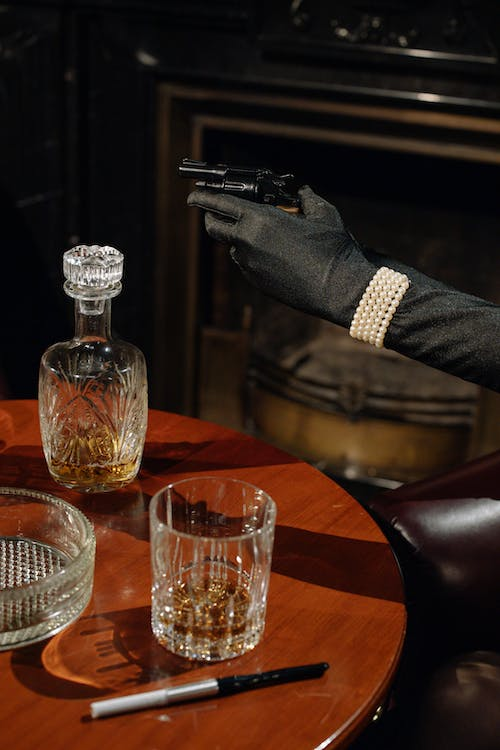alcohol: (36, 276, 150, 493), (148, 473, 275, 665)
cigarette: (87, 681, 171, 722)
gun: (177, 149, 303, 211)
